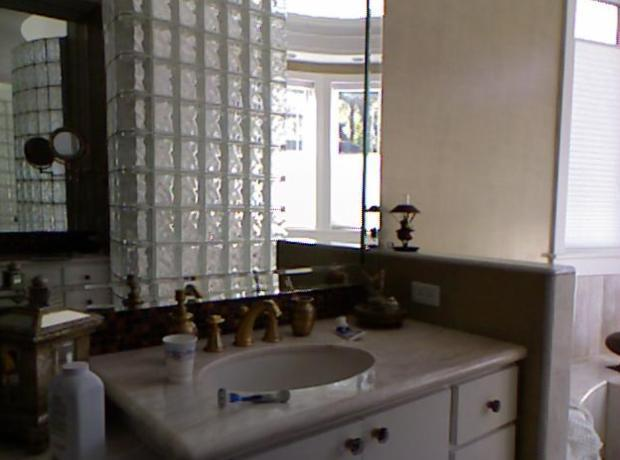Lavamanos: (168, 281, 381, 425)
